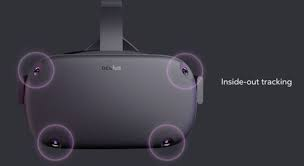oculus: (22, 47, 210, 153)
